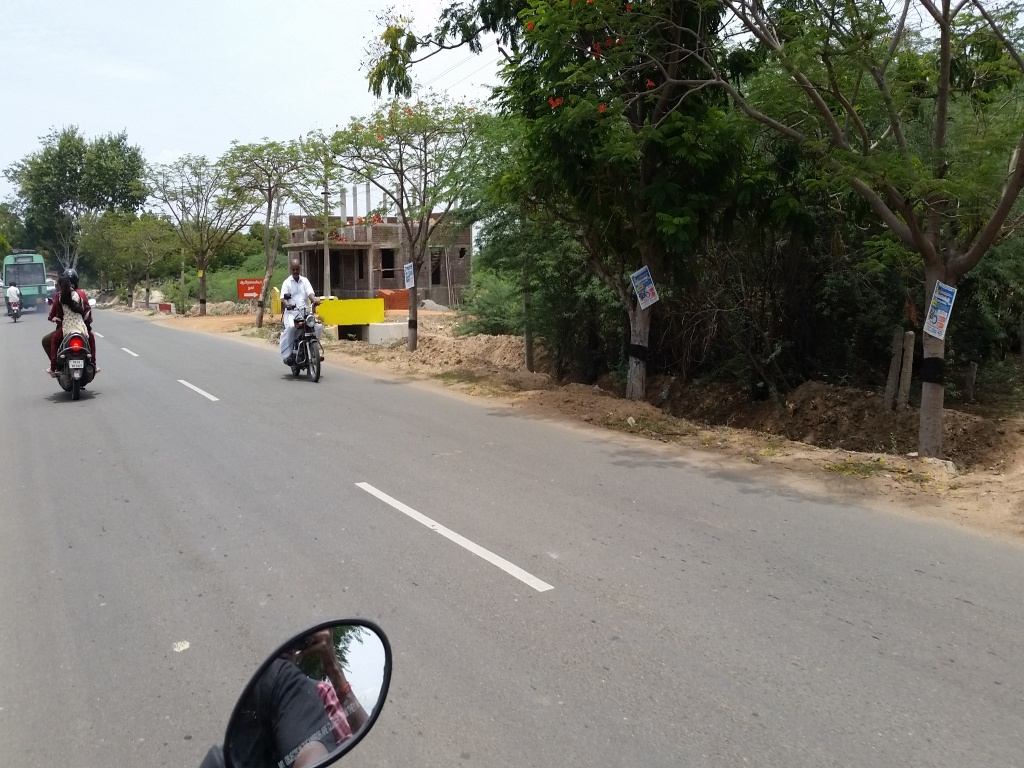biker: (264, 235, 351, 398), (31, 248, 118, 411)
helmet: (62, 268, 83, 292)
nohelmet: (286, 252, 308, 286), (54, 275, 75, 301)
